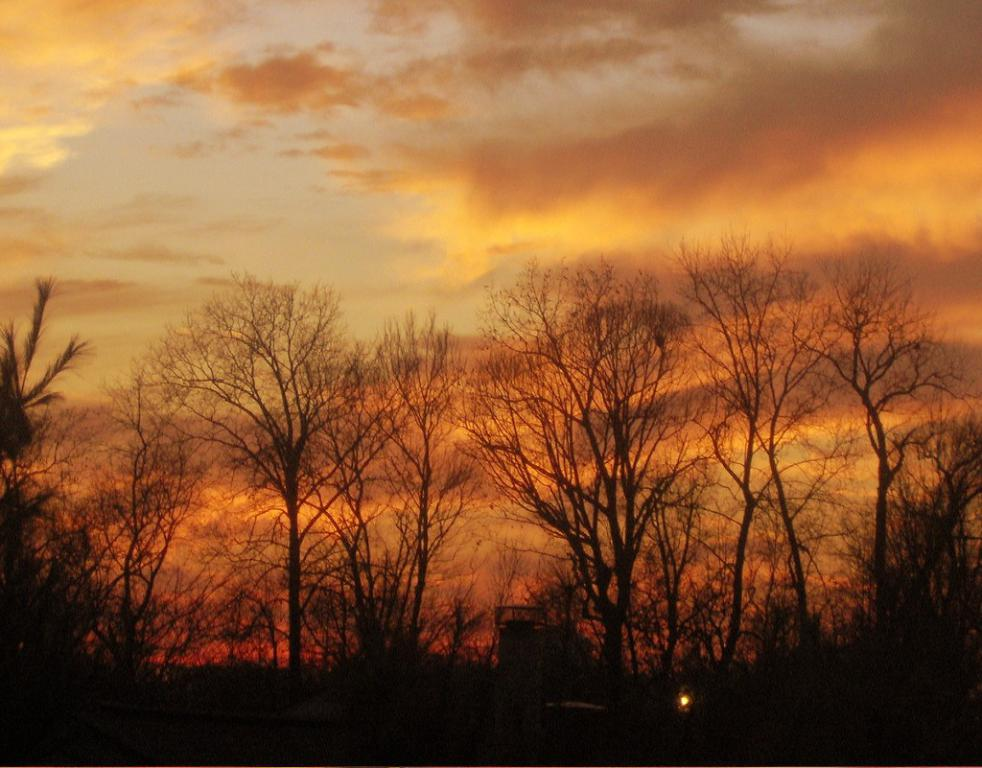Tree: (0, 223, 981, 767)
